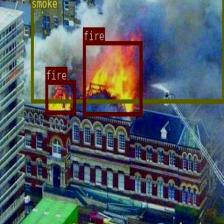fire: (82, 41, 142, 115), (44, 80, 76, 114)
smoke: (30, 0, 224, 102)
